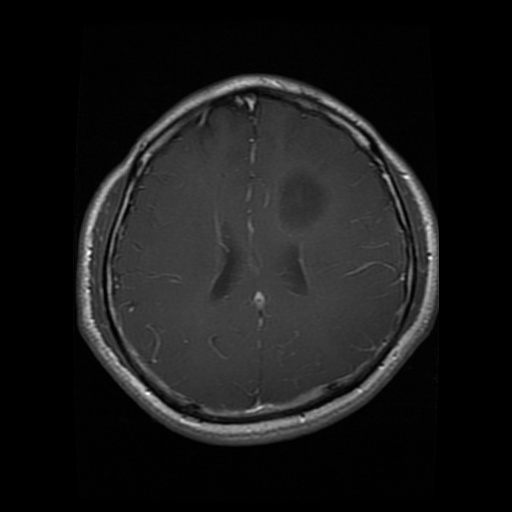glioma: (276, 160, 333, 233)
